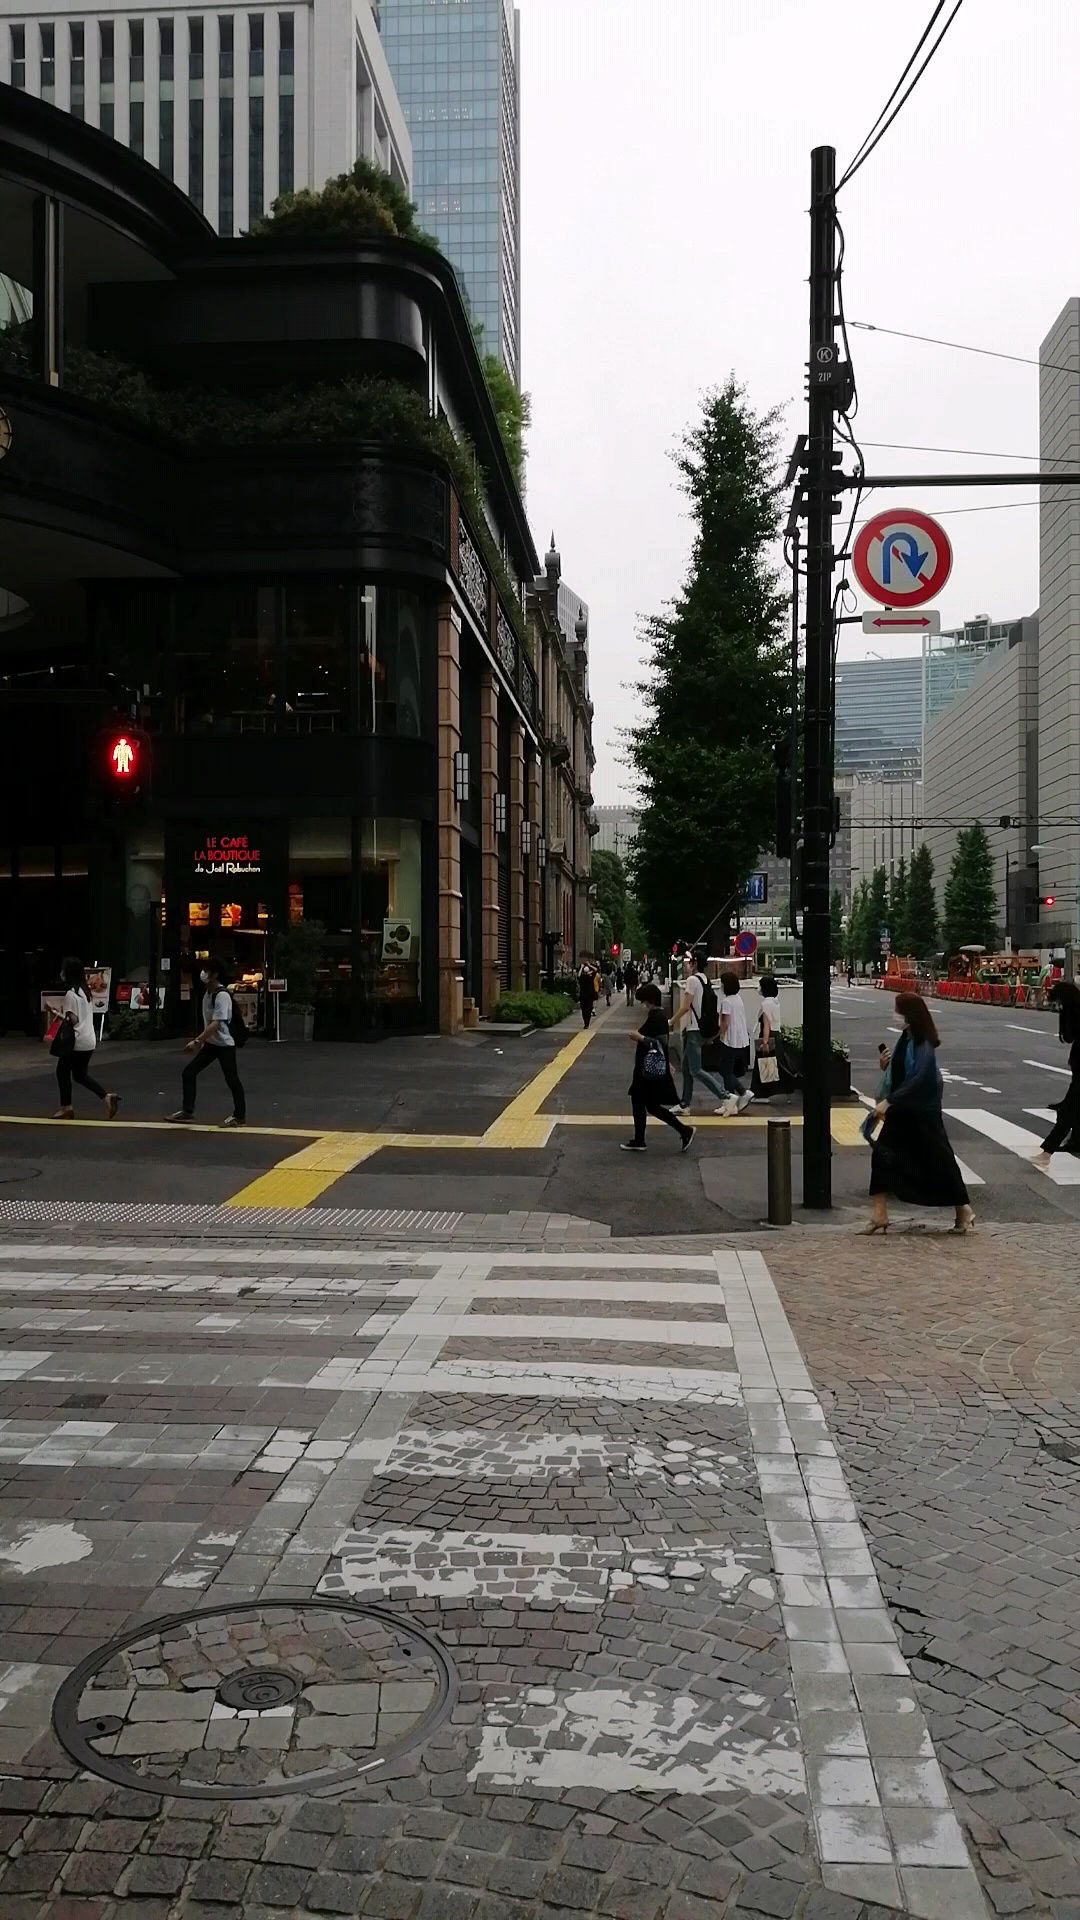red: (99, 729, 149, 818)
